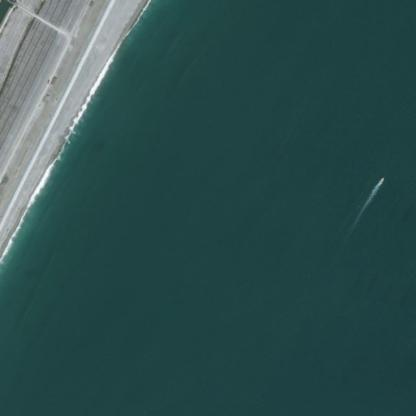ship: (366, 172, 388, 194)
